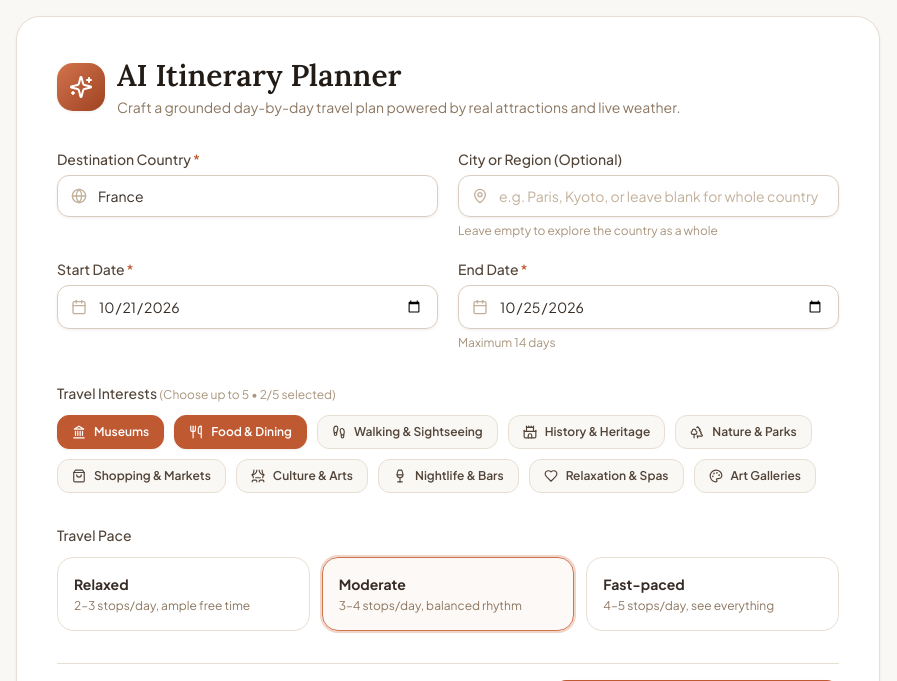
Test: AI Itinerary Generator Feature › allows toggling interest chips up to 5 max
Click the button "Walking & Sightseeing": (407, 432) [317,415,498,449]
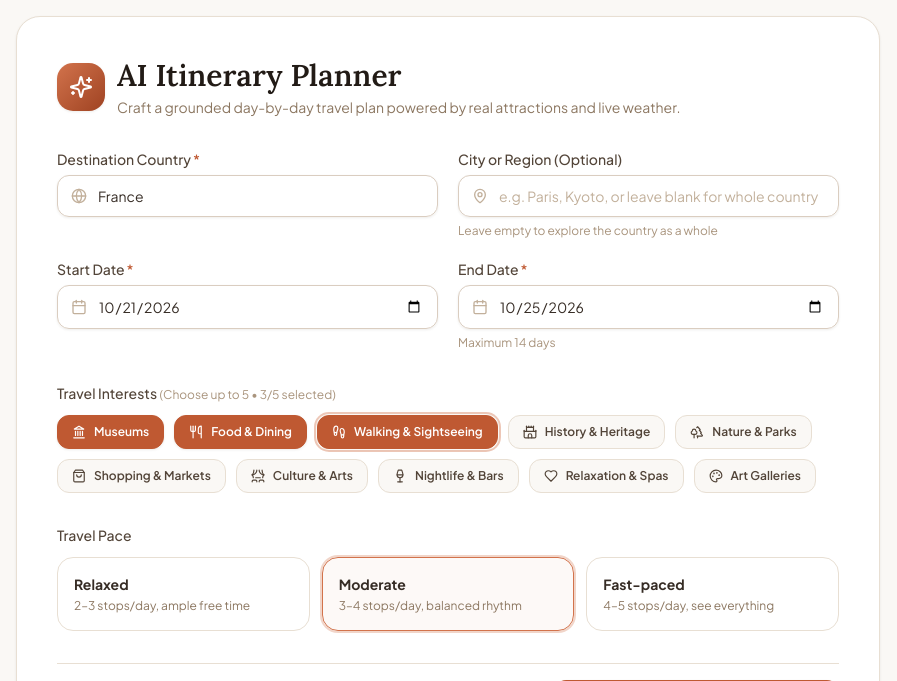
Check: the text "(Choose up to 5 • 3/5 selected)" is shown, box [160,387,336,402]
Click the button "Walking & Sightseeing": (407, 432) [317,415,498,449]
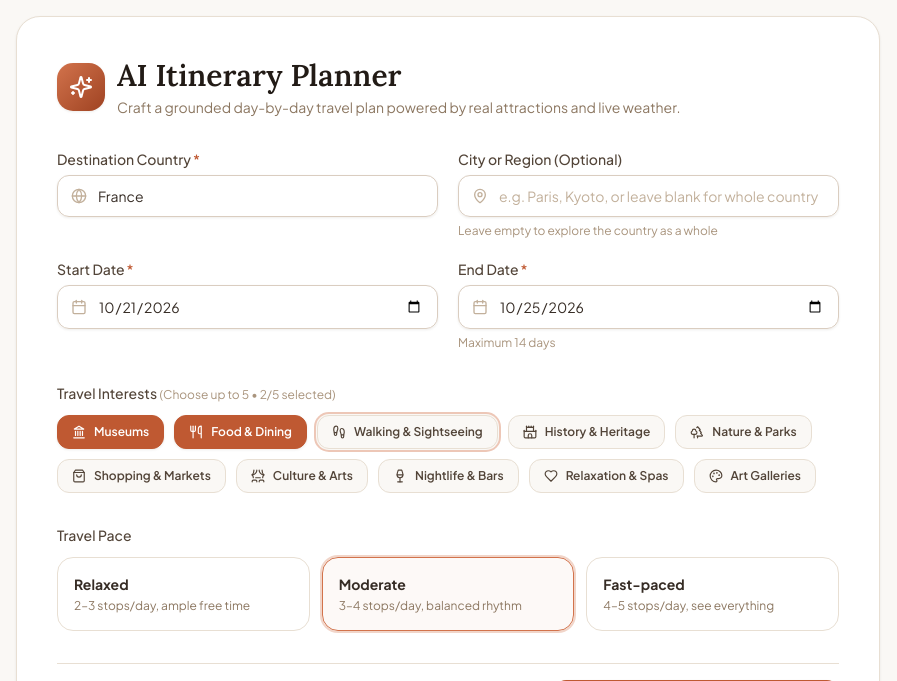
Check: the text "(Choose up to 5 • 2/5 selected)" is shown, box [160,387,336,402]
